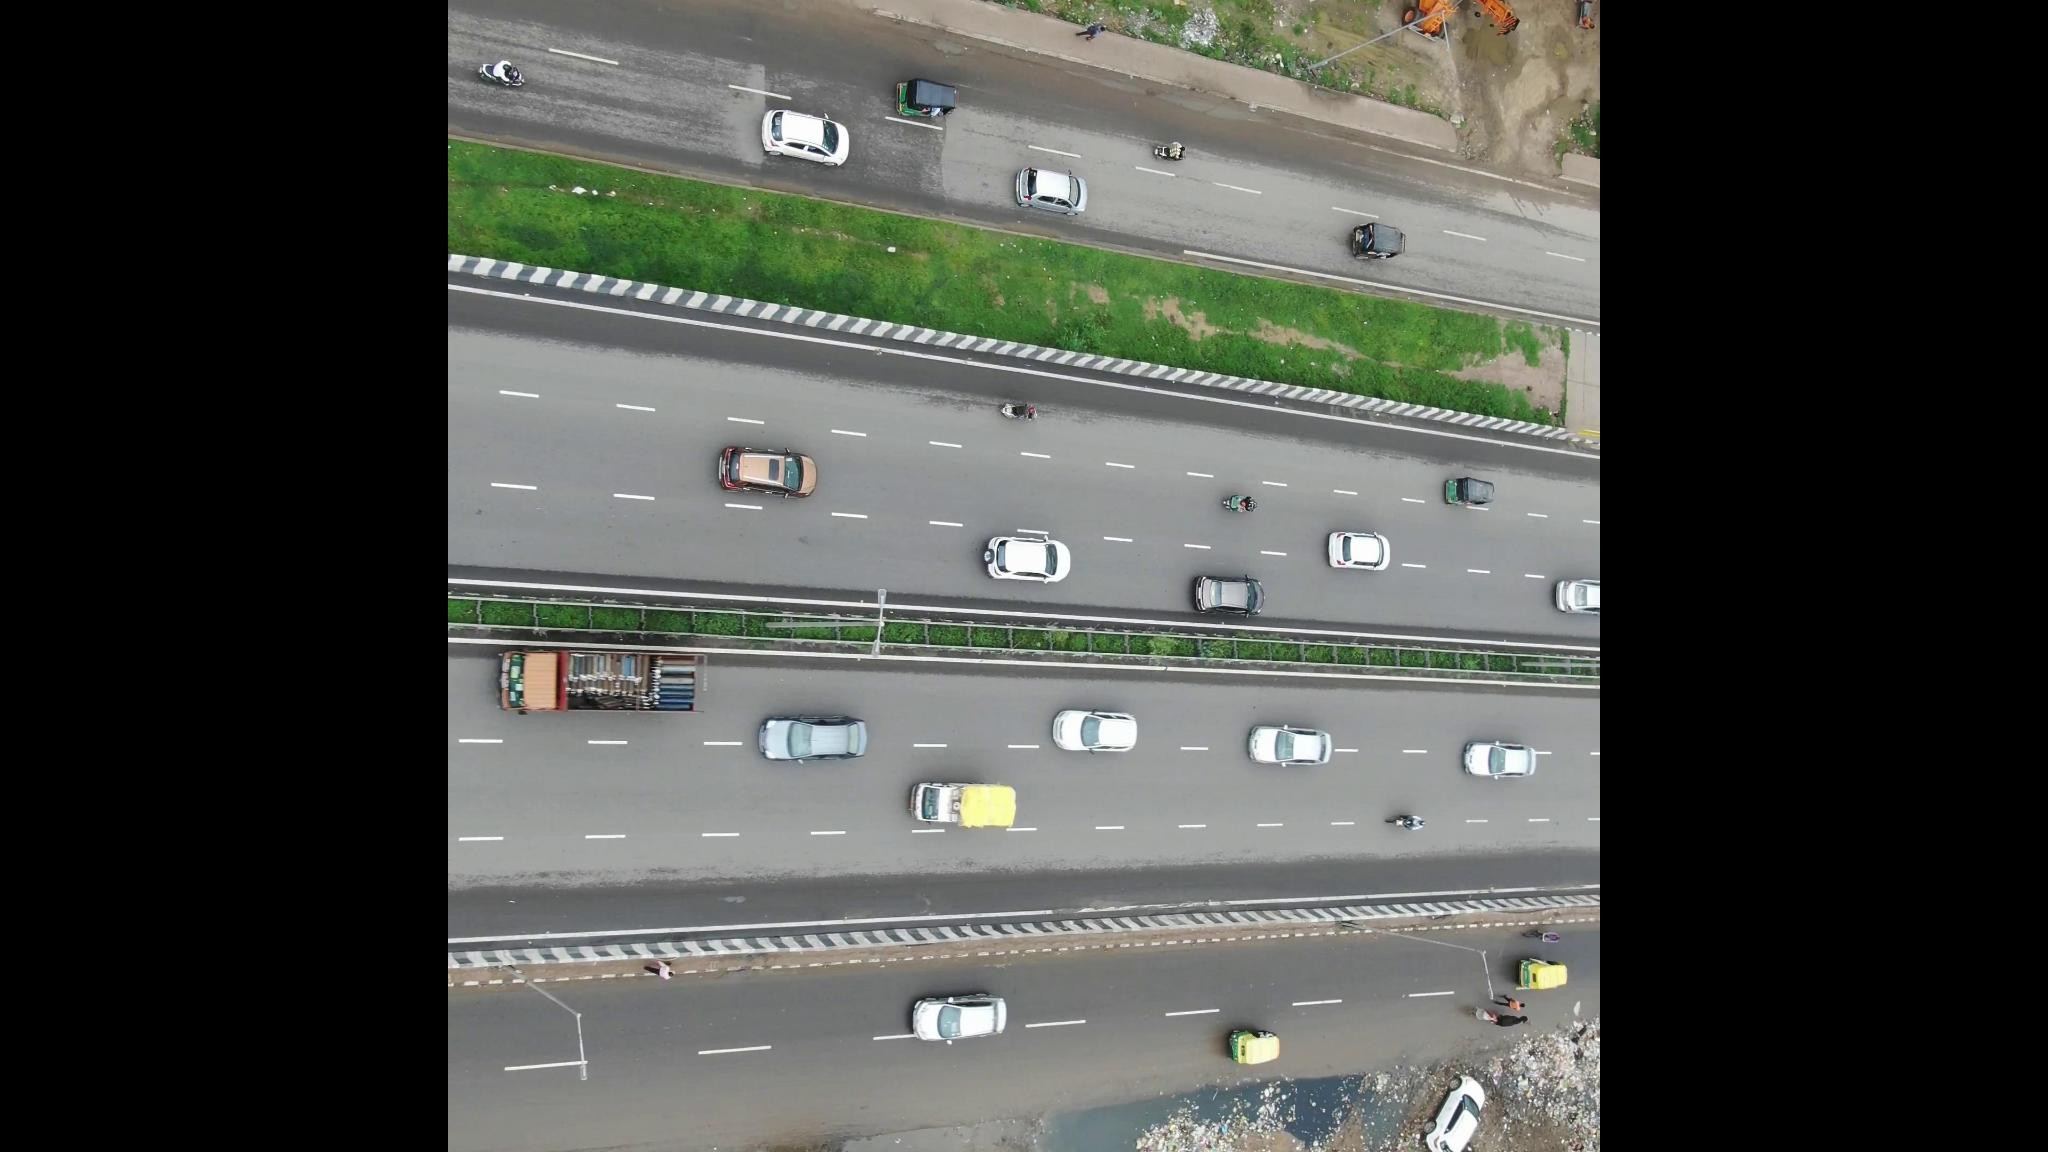Road_side_garbage: (1492, 1020, 1596, 1152)
Waterlogging: (1051, 1062, 1371, 1152)
